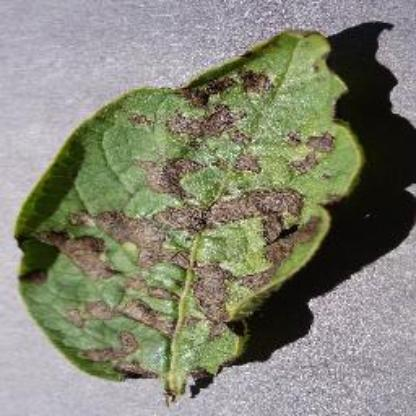Early-Blight: (14, 26, 364, 400)
